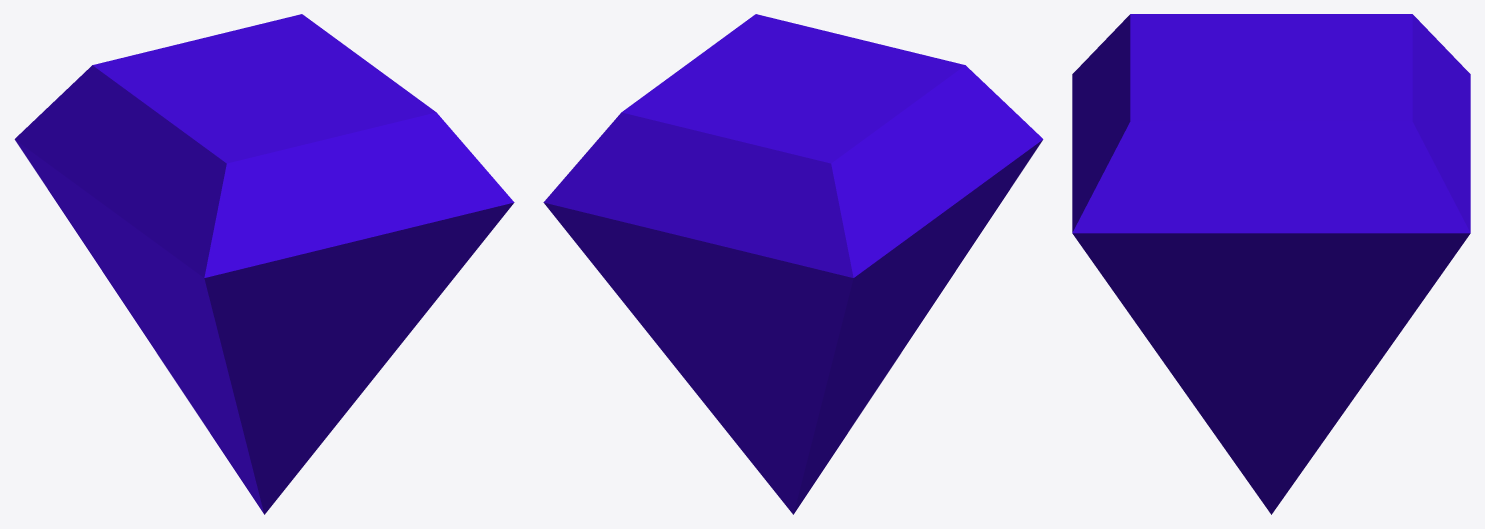
File: arrow_pointer.glb
3 views of the same model, side by side, from view 1: azimuth 30°, elevation 25°; view 2: azimuth 150°, elevation 25°; view 3: azimuth 270°, elevation 25° (orthographic). The views are drawn at different scales.
Visible parts, largest first — view 1: Cube; view 2: Cube; view 3: Cube.
Boxes of the visible parts, box(x1,y1,x2,y2) form: Cube: box(14, 14, 514, 514); Cube: box(543, 14, 1043, 514); Cube: box(1072, 14, 1470, 514).
Bounding box in the file's own units: 0.7616 × 1 × 0.8075.
